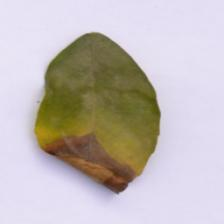black spot: (36, 125, 144, 200)
